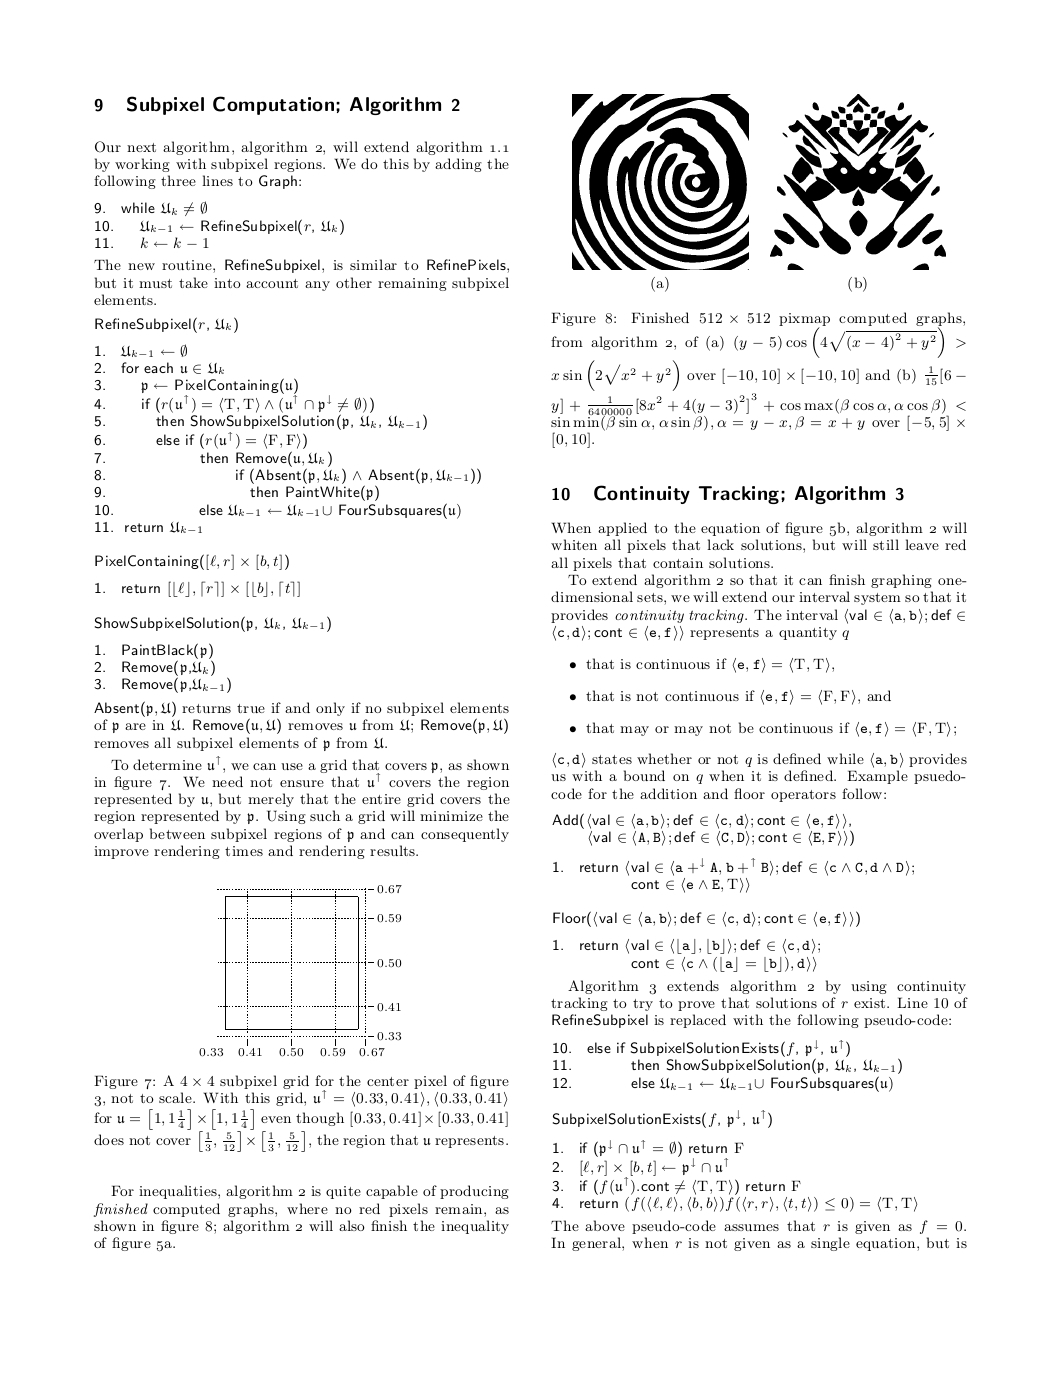figure: (199, 884, 401, 1056), (572, 94, 748, 269), (772, 94, 945, 269)
formula: (553, 911, 859, 927)
